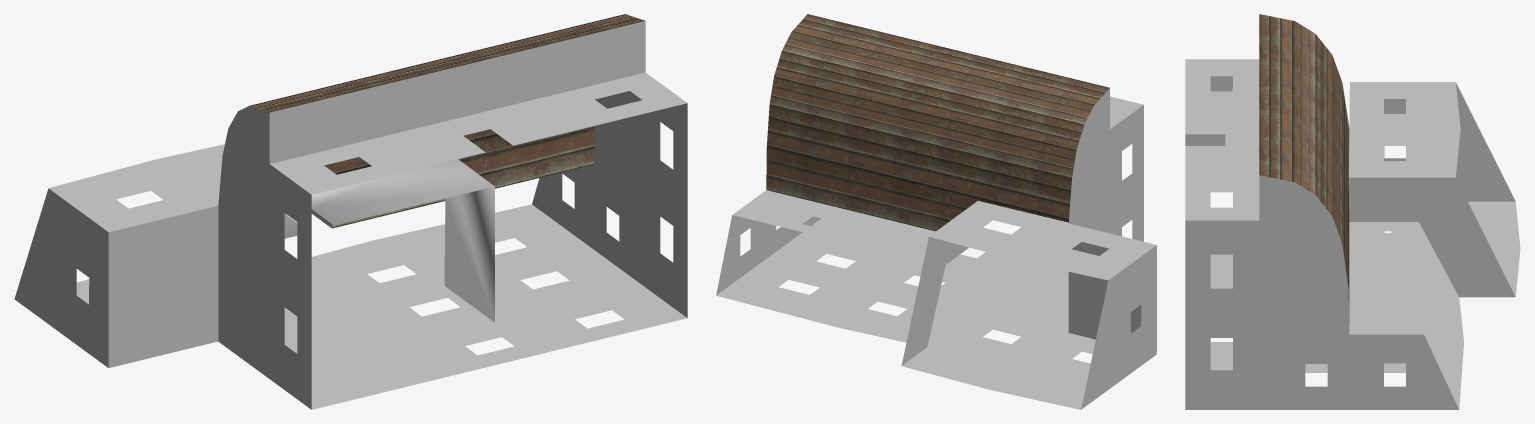
File: Pirate_Bar_Interior_B.fbx
The picture shows the model from 3 angles, left to right: view 1: azimuth 30°, elevation 25°; view 2: azimuth 150°, elevation 25°; view 3: azimuth 270°, elevation 25°; orthographic projection. The views are drawn at different scales.
Parts seen in each view (by area): view 1: Pirate_Bar_Interior_B; view 2: Pirate_Bar_Interior_B; view 3: Pirate_Bar_Interior_B.
Boxes of the visible parts, x1,y1,x2,y2 form: Pirate_Bar_Interior_B: [14, 14, 687, 409]; Pirate_Bar_Interior_B: [716, 14, 1156, 409]; Pirate_Bar_Interior_B: [1185, 14, 1520, 409].
Bounding box in the file's own units: 26.08 × 13.69 × 17.72.
